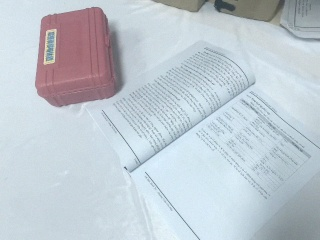box: (32, 7, 121, 107)
